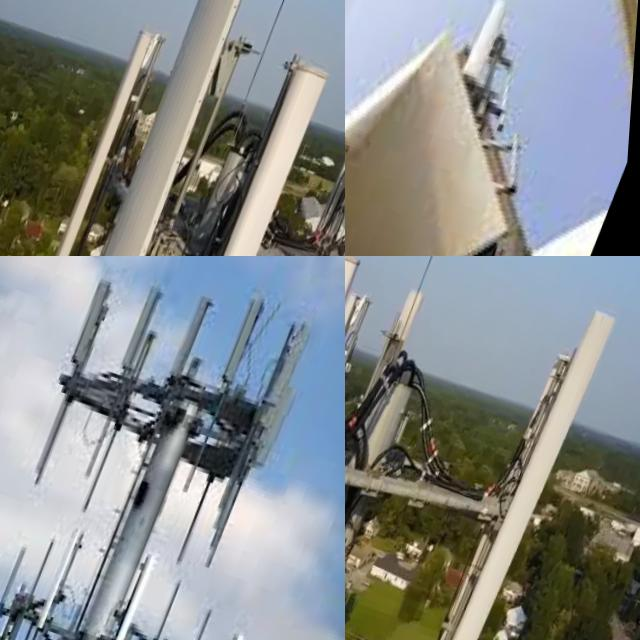GSM Antenna: (442, 277, 632, 640), (23, 0, 272, 256), (122, 36, 345, 256), (435, 340, 577, 640), (30, 20, 167, 256), (259, 87, 345, 256), (345, 268, 384, 558), (363, 274, 433, 420), (449, 0, 531, 105), (61, 264, 129, 378), (36, 521, 100, 640), (115, 281, 171, 384), (111, 545, 170, 640), (220, 291, 271, 391), (171, 290, 222, 387), (0, 542, 35, 627), (27, 537, 64, 608)
